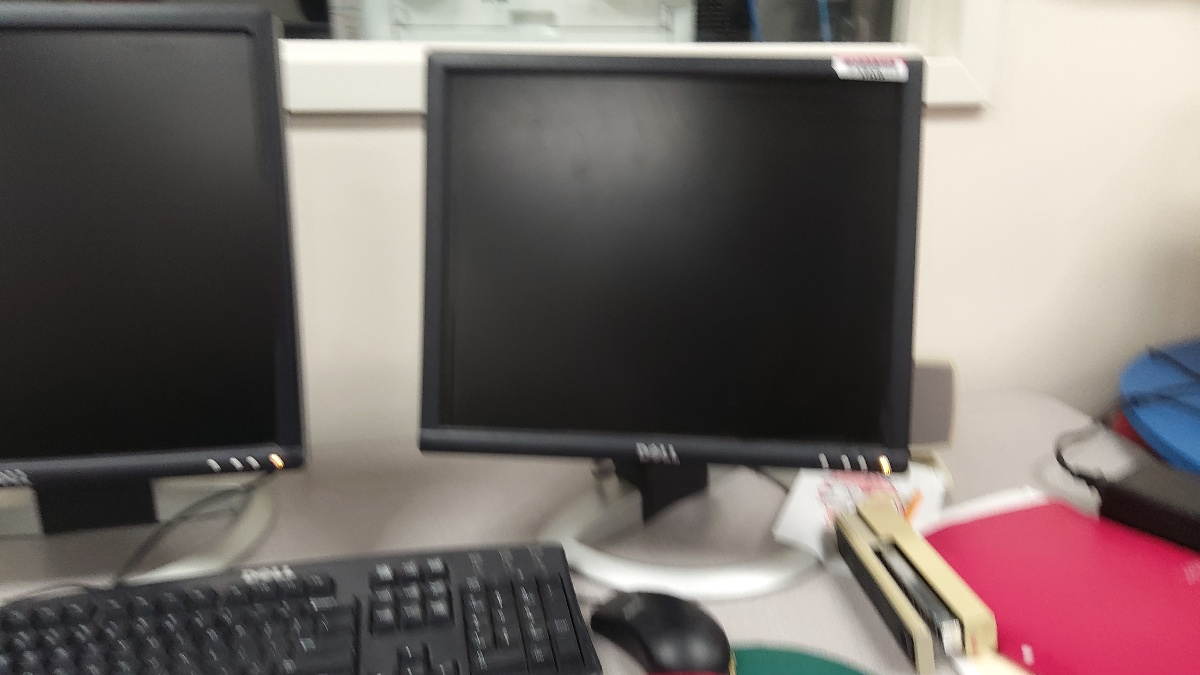monitor: (412, 40, 930, 479)
